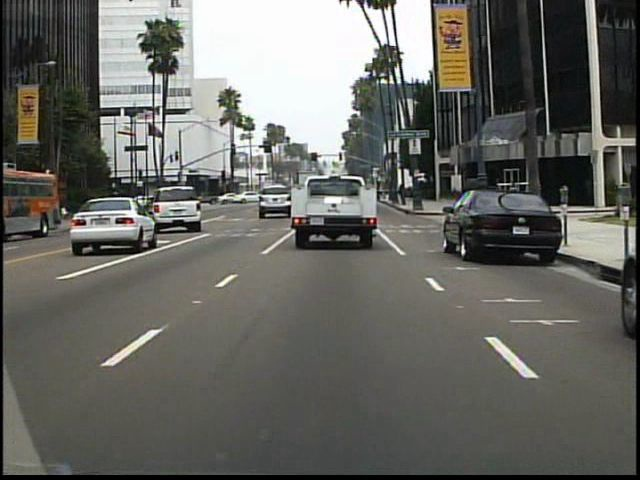person: (530, 176, 545, 212)
